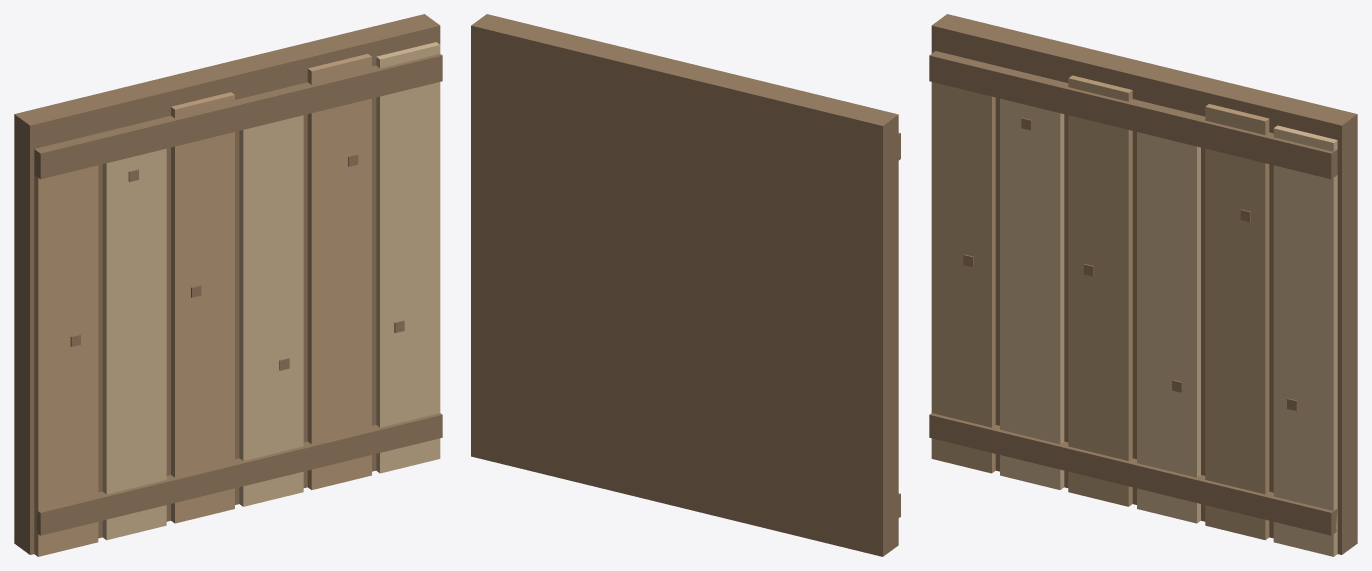
The model's file is wall.glb.
3 views of the same model, side by side, from view 1: azimuth 30°, elevation 25°; view 2: azimuth 150°, elevation 25°; view 3: azimuth 330°, elevation 25° (orthographic).
Parts seen in each view (by area): view 1: wall; view 2: wall; view 3: wall.
Boxes of the visible parts, x1,y1,x2,y2 form: wall: [14, 14, 442, 556]; wall: [471, 14, 900, 556]; wall: [929, 14, 1357, 556].
Bounding box in the file's own units: 3 × 3 × 0.28.
